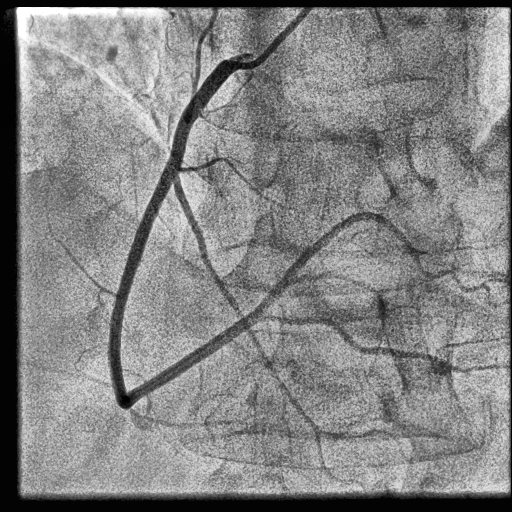pborca: (256, 211, 489, 313)
pda: (263, 314, 464, 372)
rca: (109, 61, 260, 409)
